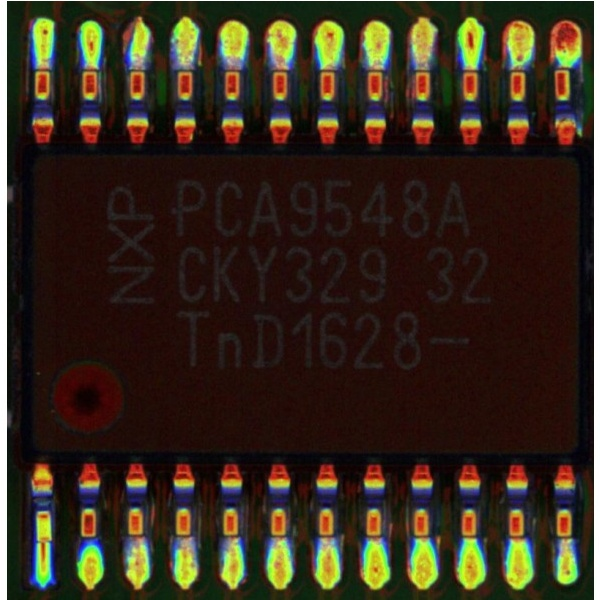Bad_podu: (35, 47, 48, 84), (273, 53, 287, 84), (369, 47, 380, 84), (416, 51, 427, 84), (36, 526, 46, 561)
